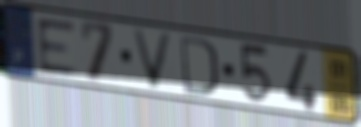4: (284, 49, 322, 114)
5: (240, 41, 274, 106)
7: (80, 18, 117, 85)
D: (178, 33, 221, 99)
E: (34, 16, 80, 78)
V: (130, 27, 176, 92)
